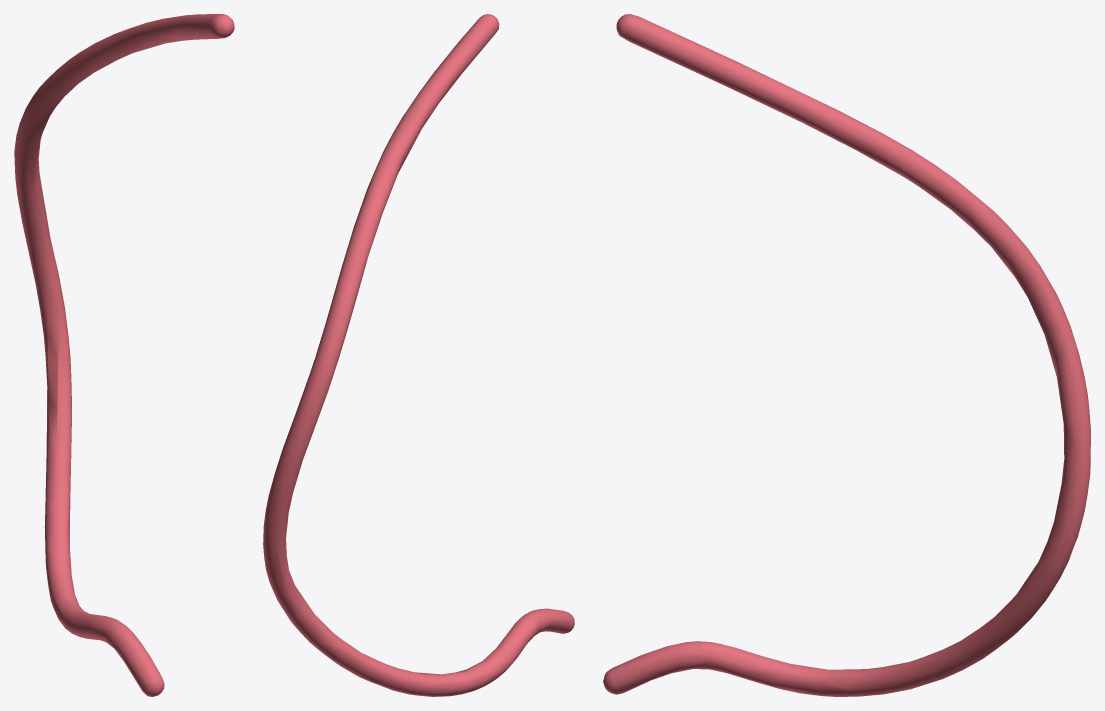
File: fma50684_fj1678.glb
The picture shows the model from 3 angles, left to right: view 1: azimuth 30°, elevation 25°; view 2: azimuth 150°, elevation 25°; view 3: azimuth 270°, elevation 25°; orthographic projection. The views are drawn at different scales.
Visible parts, largest first — view 1: FMA50684_FJ1678; view 2: FMA50684_FJ1678; view 3: FMA50684_FJ1678.
Boxes of the visible parts, x1,y1,x2,y2 form: FMA50684_FJ1678: (14,14,234,696); FMA50684_FJ1678: (263,14,574,696); FMA50684_FJ1678: (603,14,1090,696).
Size of the model in its own units: 0.00588 by 0.0286 by 0.0176.
